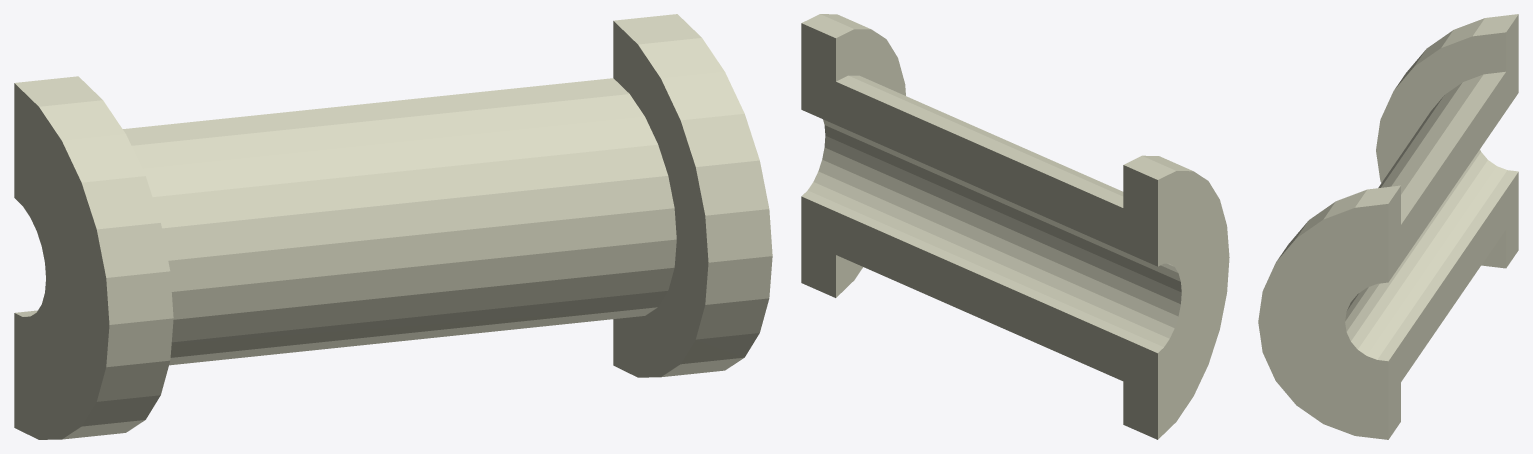
The model's file is section_149.obj.
The picture shows the model from 3 angles, left to right: view 1: azimuth 30°, elevation 25°; view 2: azimuth 150°, elevation 25°; view 3: azimuth 270°, elevation 25°; orthographic projection. The views are drawn at different scales.
Size of the model in its own units: 10.34 by 6 by 6.
